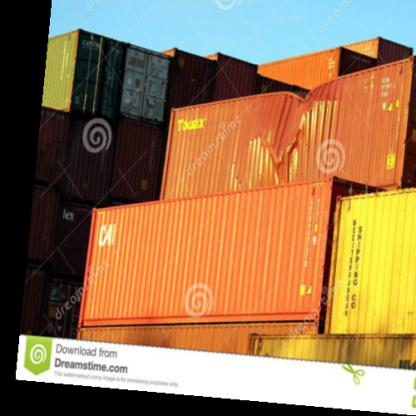Damage: (263, 91, 329, 164)
